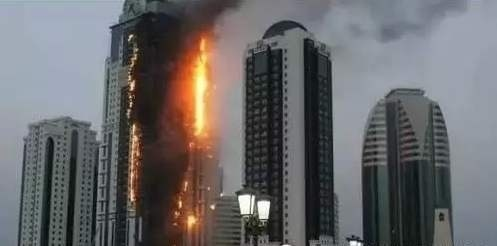fire: (124, 47, 141, 206), (187, 35, 213, 134), (172, 179, 203, 230)
